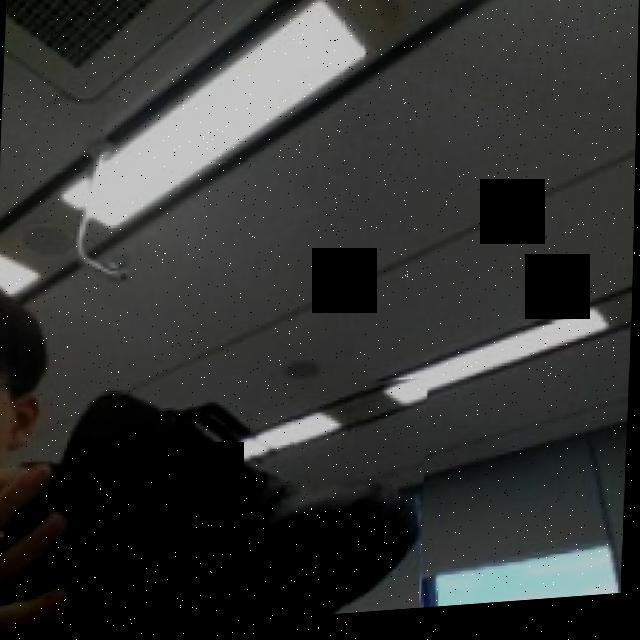shoe: (0, 371, 429, 640)
